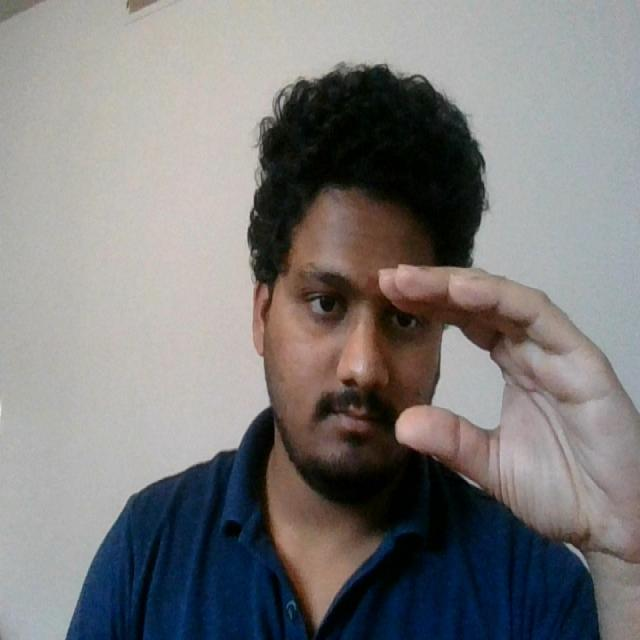No: (368, 258, 640, 584)
